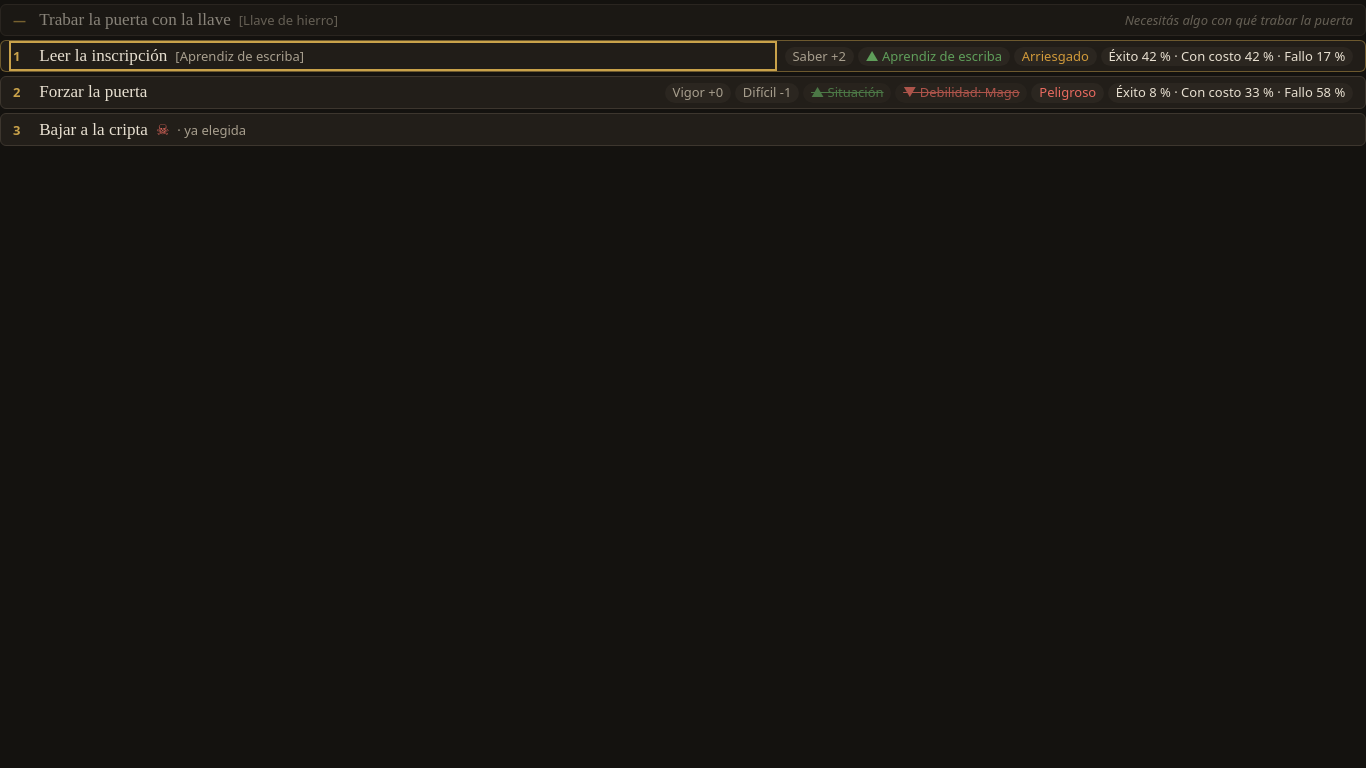
Test: OptionList › una opción que lleva a escena mortal muestra un Dialogo de peligro con el texto según heridas; cancelar no elige
Click the button with test id "opcion-bajar".
click(94, 129)  # box [13,118,1353,141]
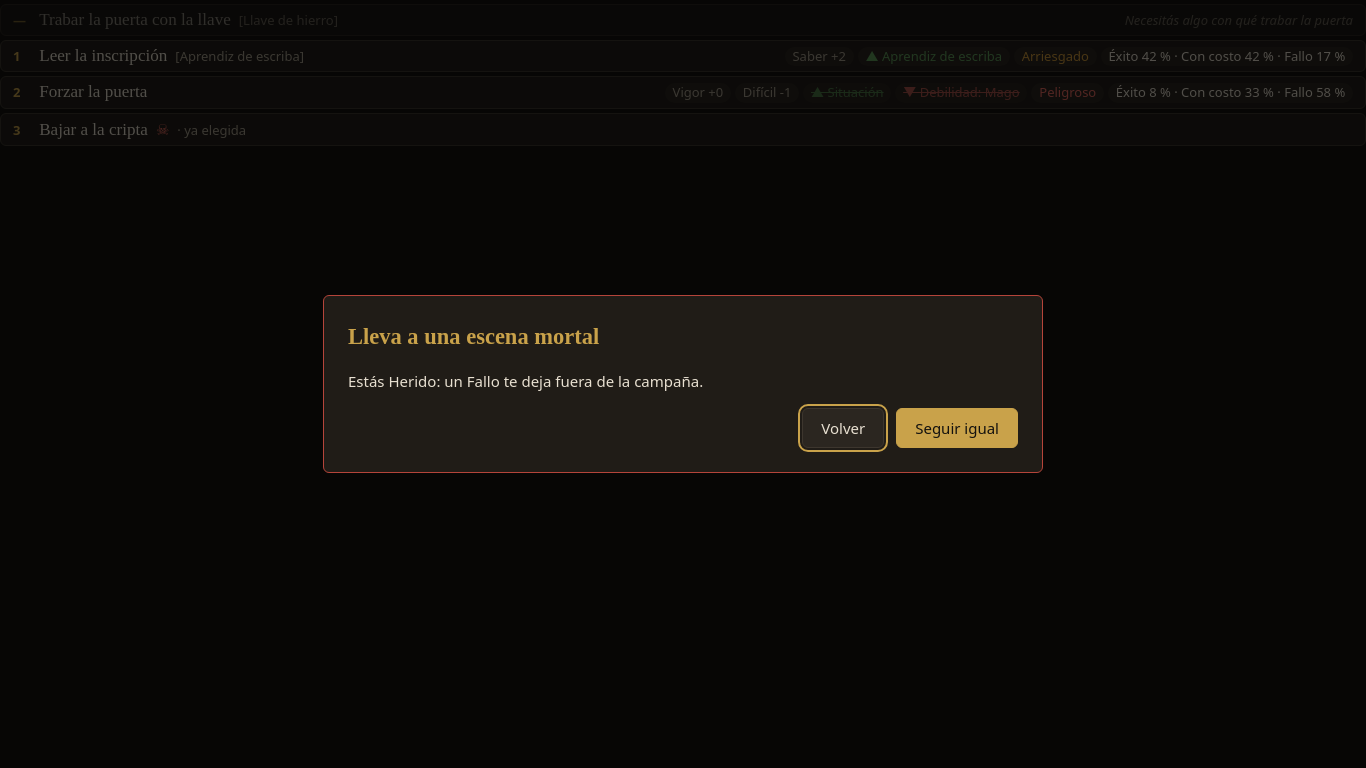
Check: the text "Estás Herido: un Fallo te deja fuera de la campaña." is shown, box [348,371,703,391]
Click the button "Volver".
click(843, 428)  # box [802,408,884,448]
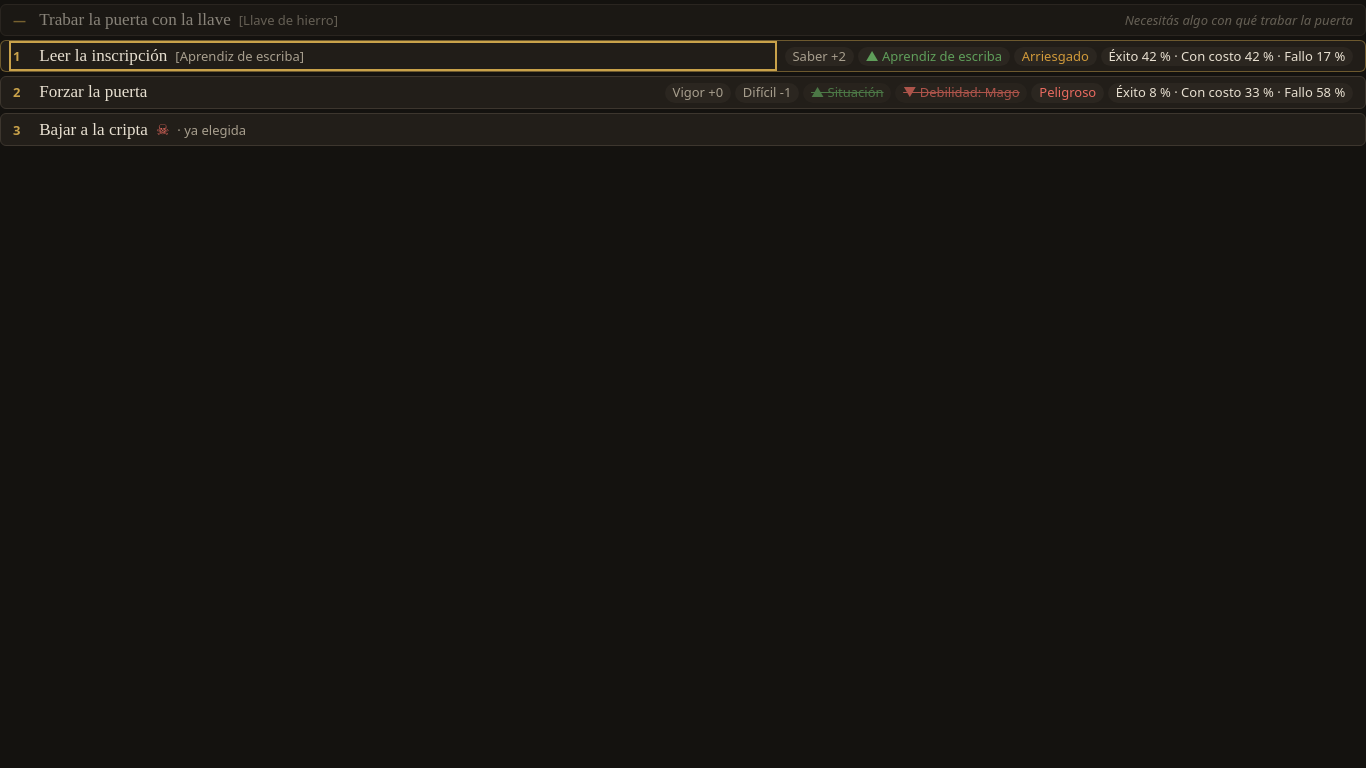
Check: the dialog is gone
